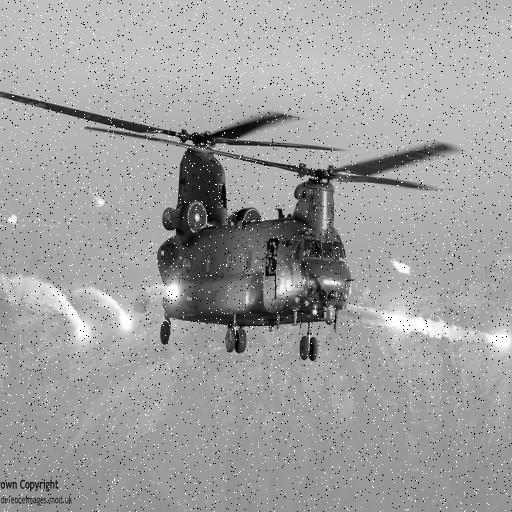helicopter: (1, 87, 468, 354)
